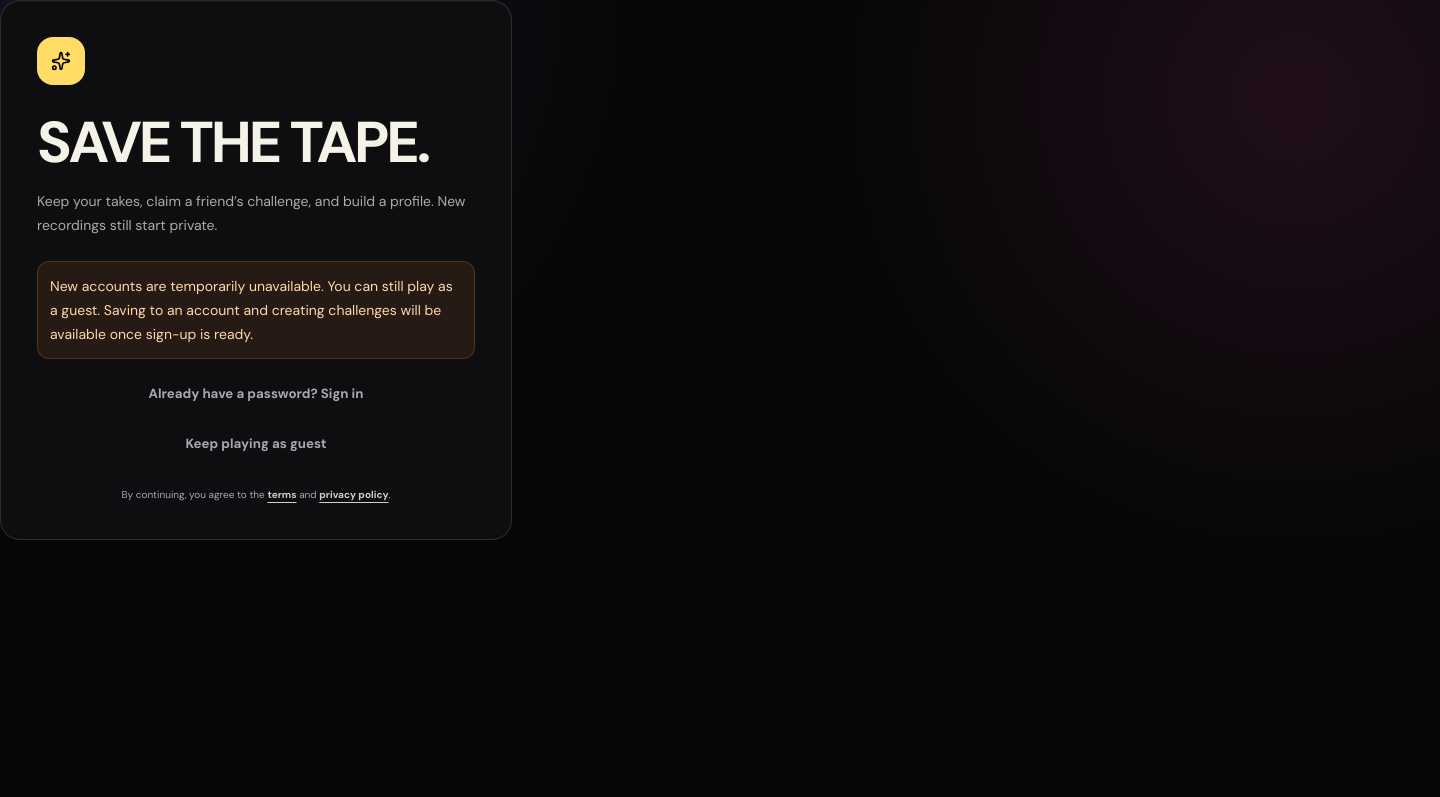
connected sign-in recovery › lets existing password users retry an invalid login without sending email
Click the button "Already have a password? Sign in": x=256, y=394 [37,371,475,417]
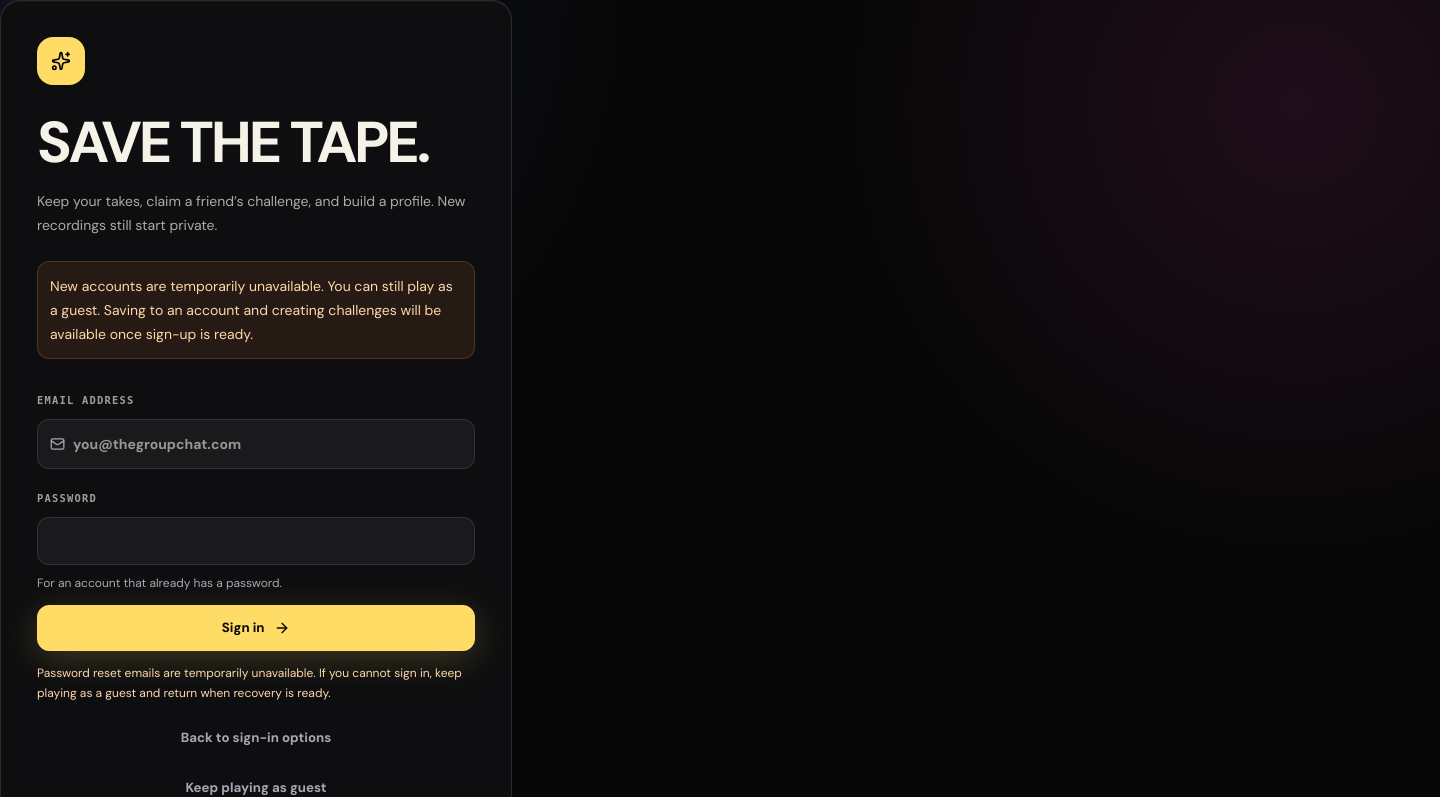
In the field labelled "Email address": x=268, y=444 [73,420,462,468], type "person@example.com"
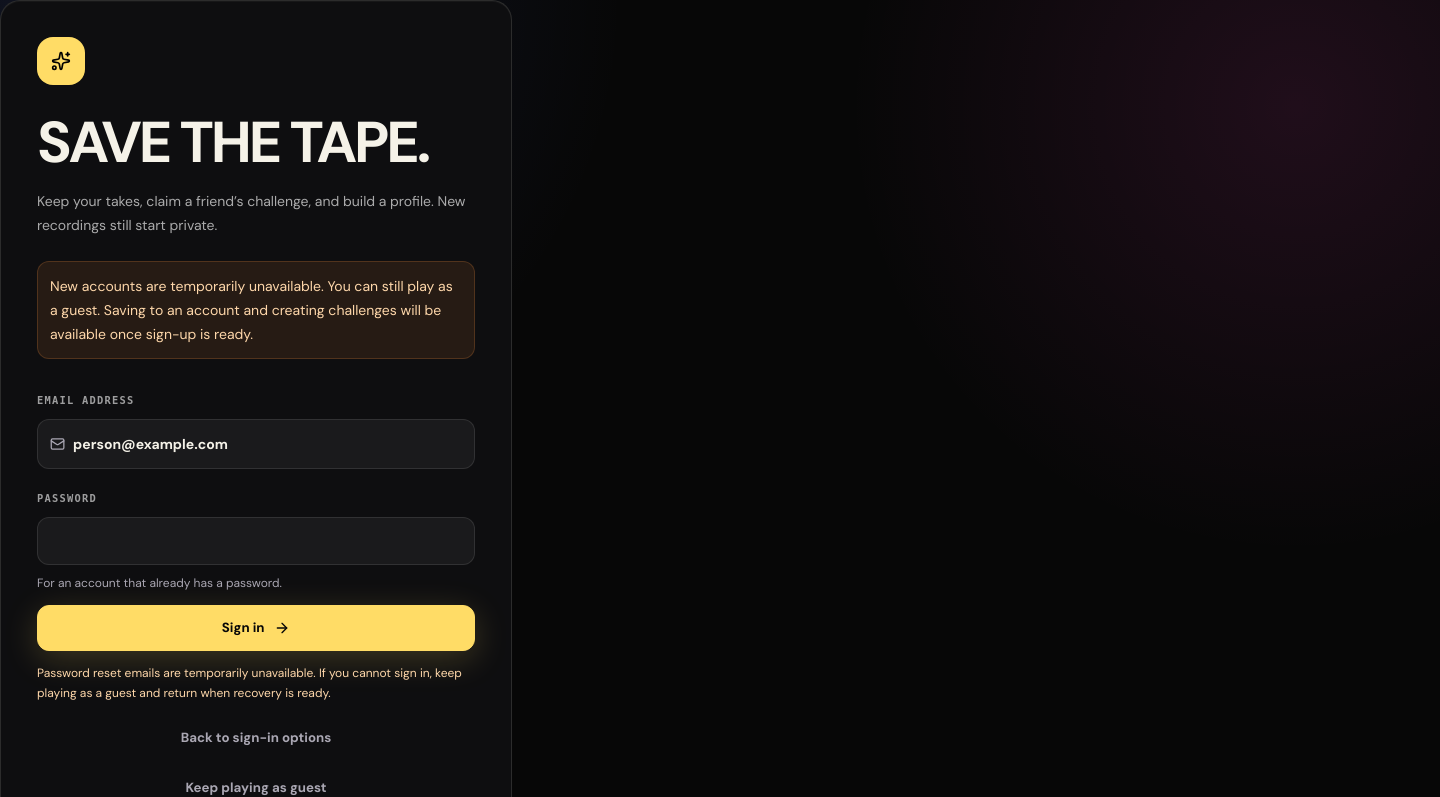
In the password field labelled "Password": x=256, y=541 [37,517,475,565], type "fixture-only"
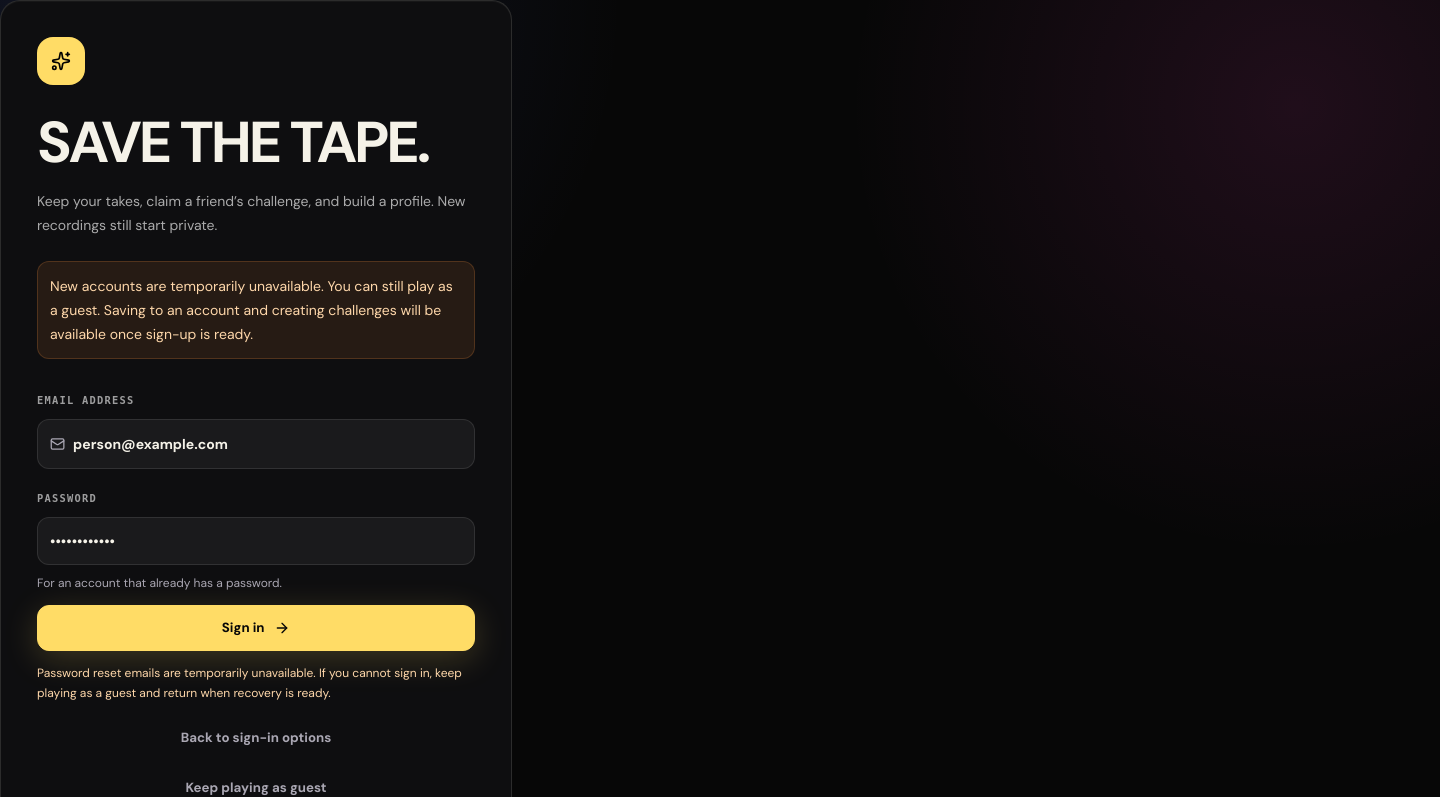
Click the button "Sign in": x=256, y=628 [37,605,475,651]
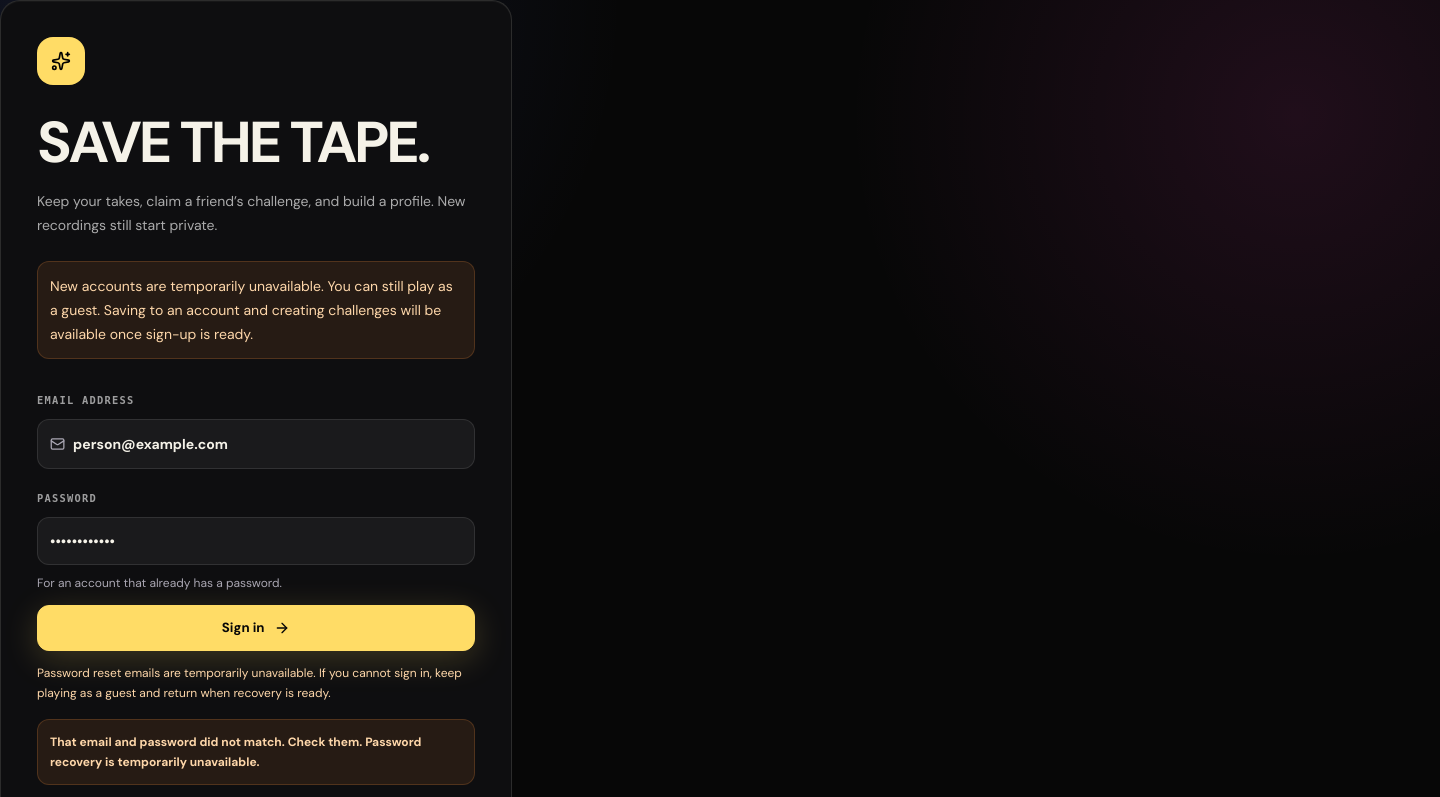
Now the button "Sign in" is enabled, box [37,605,475,651]
Now the 2nd message shows "did not match", box [50,734,421,770]
